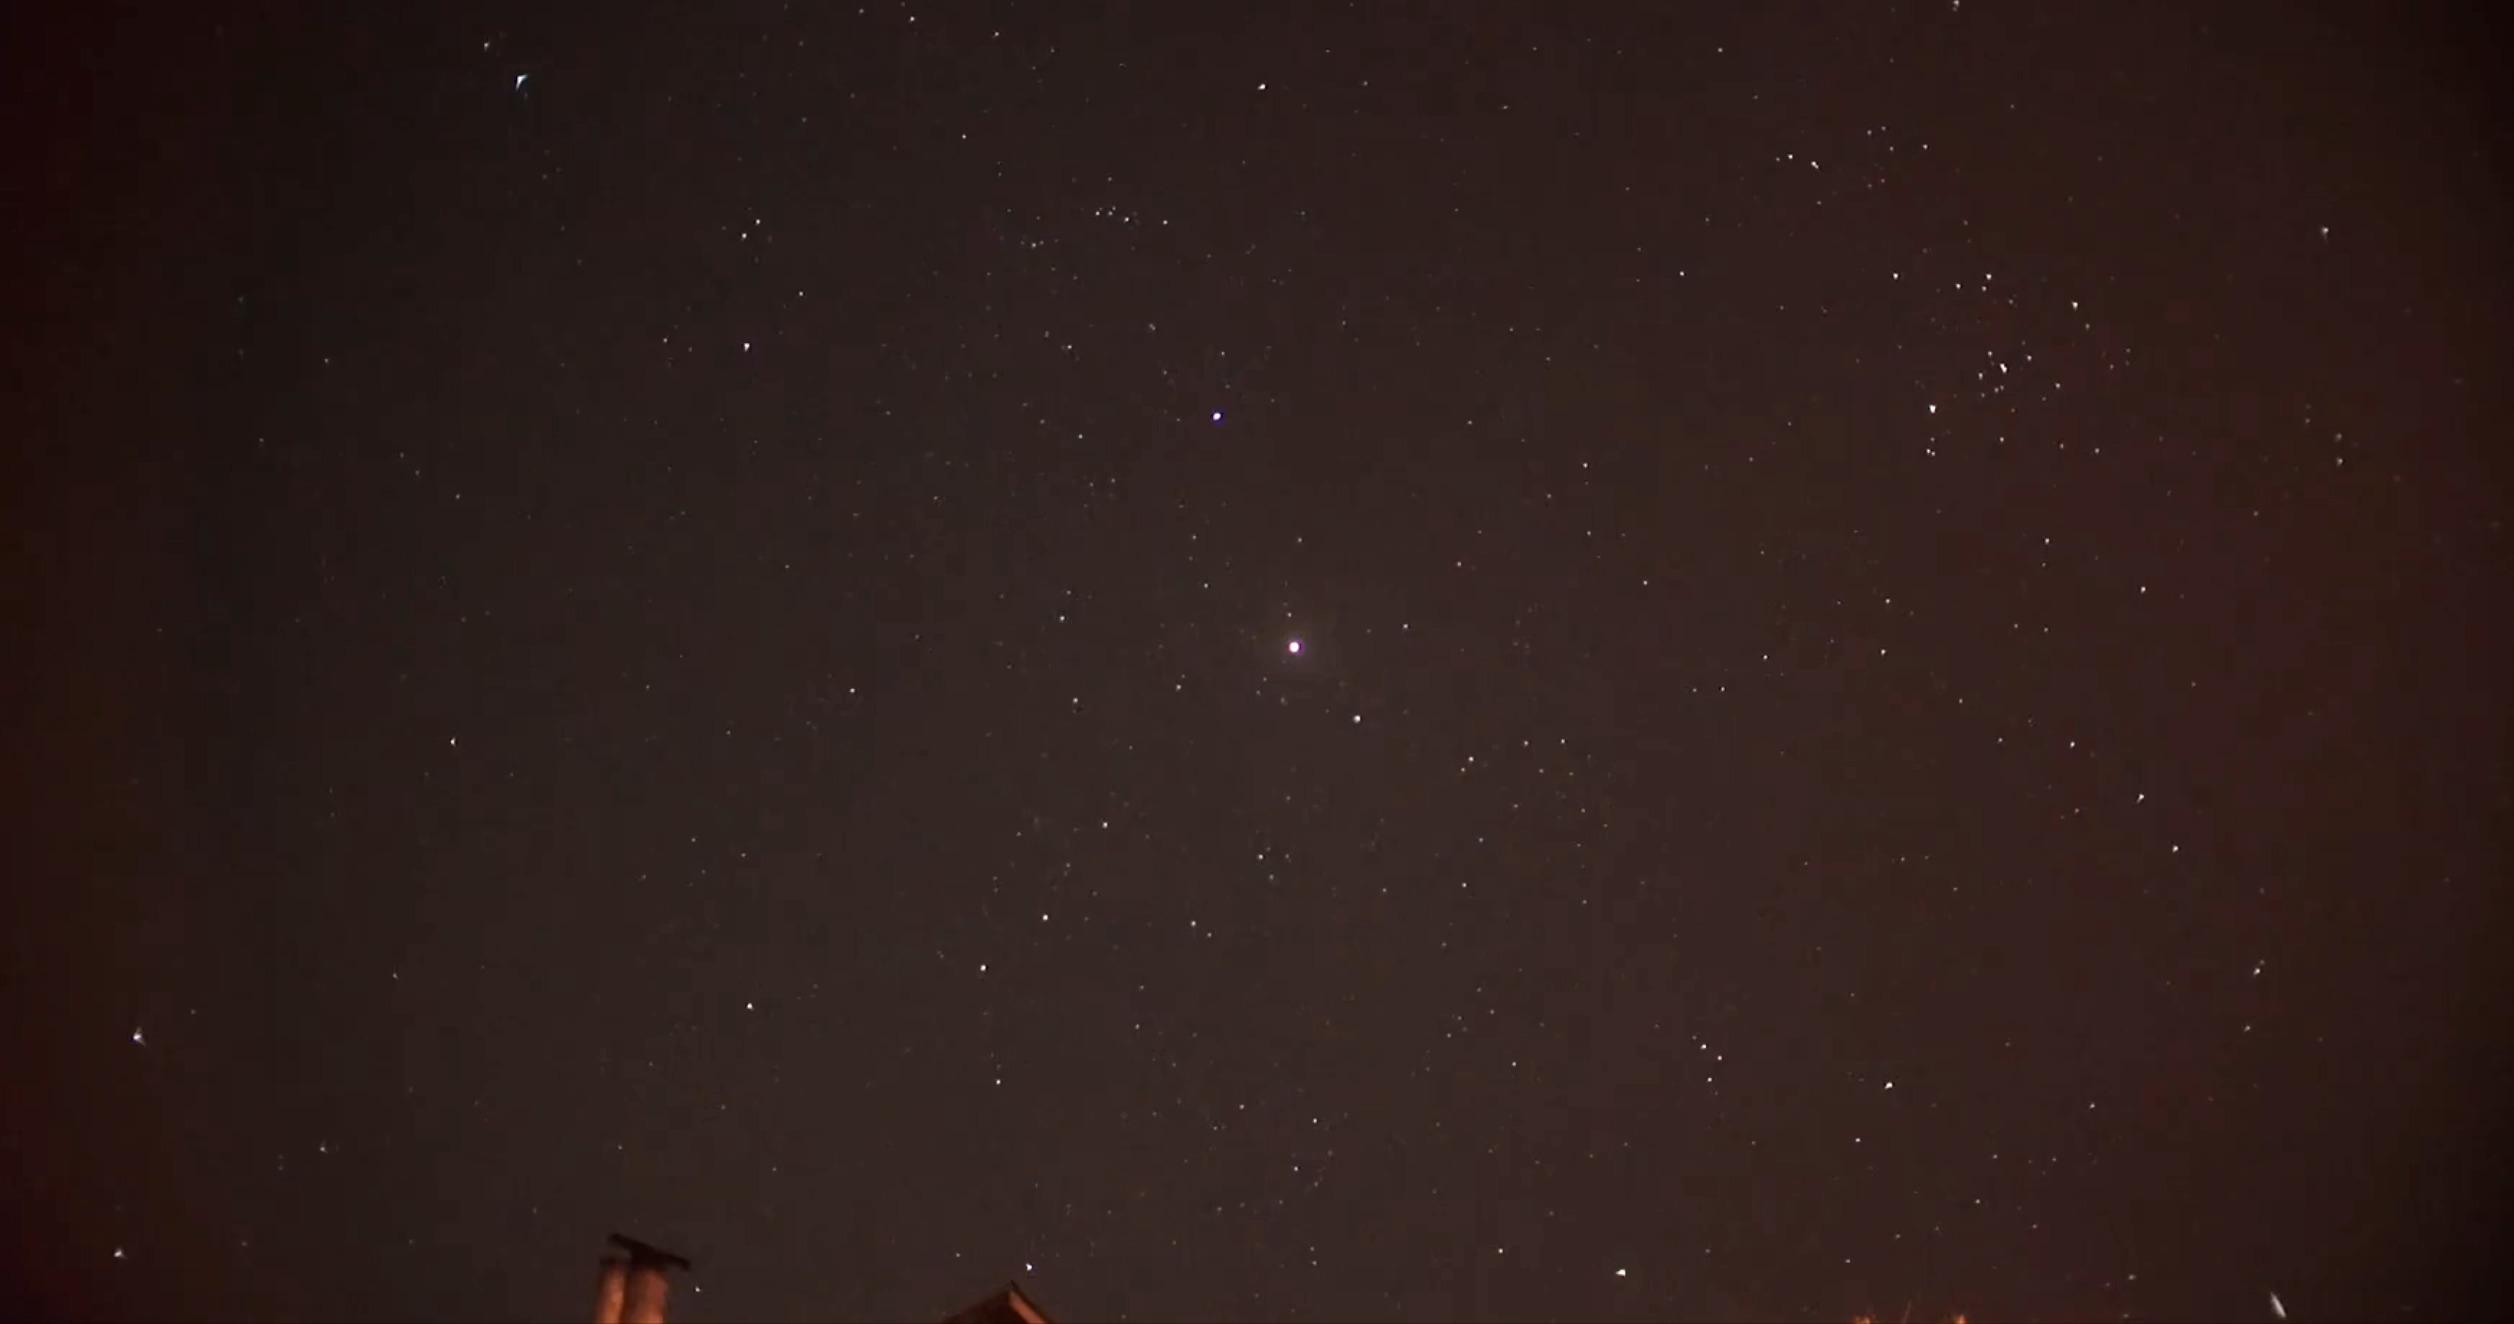meteorite: (2230, 1267, 2324, 1322)
